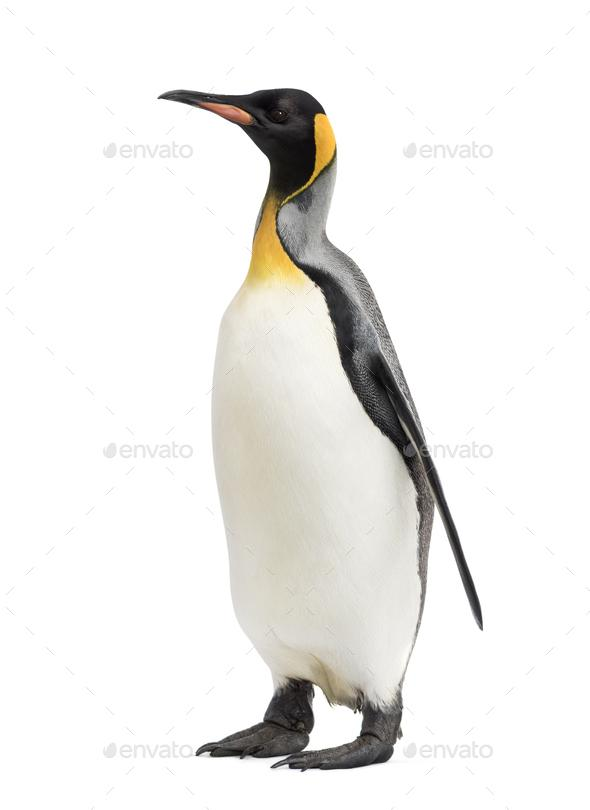king: (100, 43, 507, 810)
